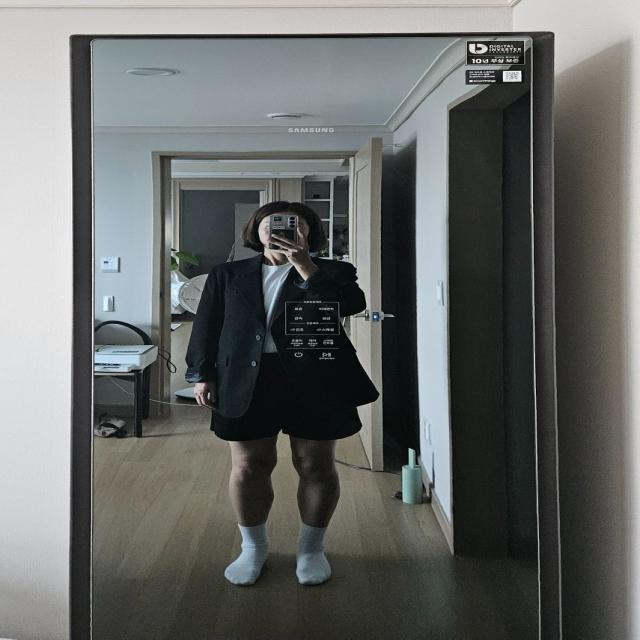blazer: (185, 258, 369, 423)
shortpants: (214, 347, 362, 442)
